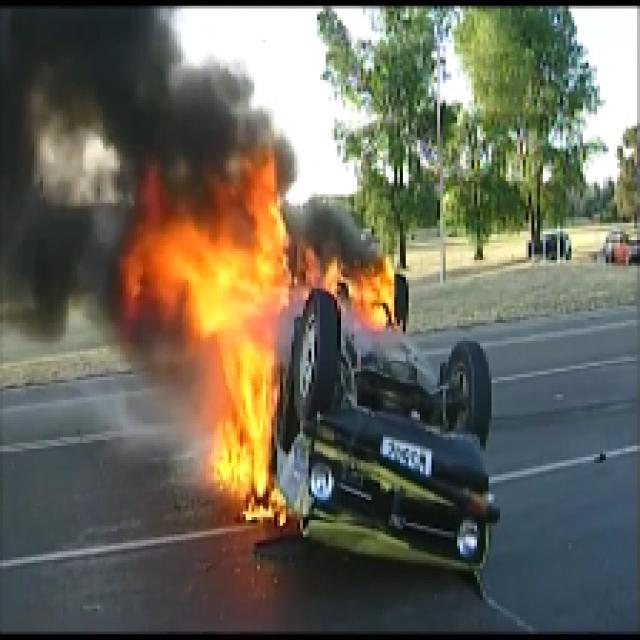fire: (124, 210, 283, 512)
smoke: (4, 16, 114, 319)
